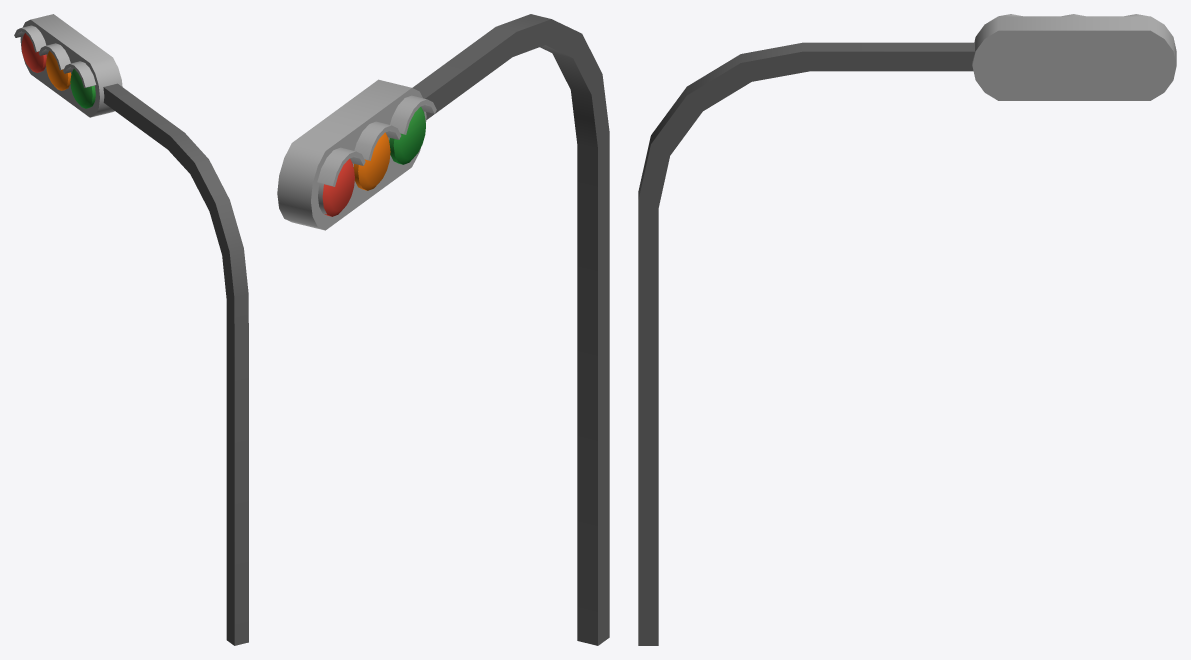
Rendered from Trafficlight2.fbx.
The picture shows the model from 3 angles, left to right: view 1: azimuth 30°, elevation 25°; view 2: azimuth 150°, elevation 25°; view 3: azimuth 270°, elevation 25°; orthographic projection. The views are drawn at different scales.
Parts seen in each view (by area): view 1: Cylinder_002_001; view 2: Cylinder_002_001; view 3: Cylinder_002_001.
Part boxes in pixels (<box>): Cylinder_002_001: <box>14,14,248,645</box>; Cylinder_002_001: <box>277,14,609,645</box>; Cylinder_002_001: <box>638,14,1176,645</box>.
Bounding box in the file's own units: 648 × 8817 × 6962.
